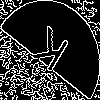K: (25, 25, 71, 82)
